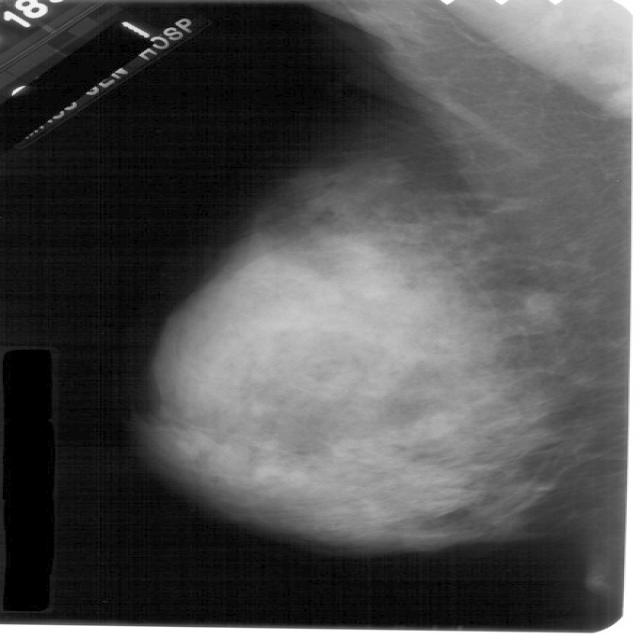tumour: (525, 289, 563, 327)
